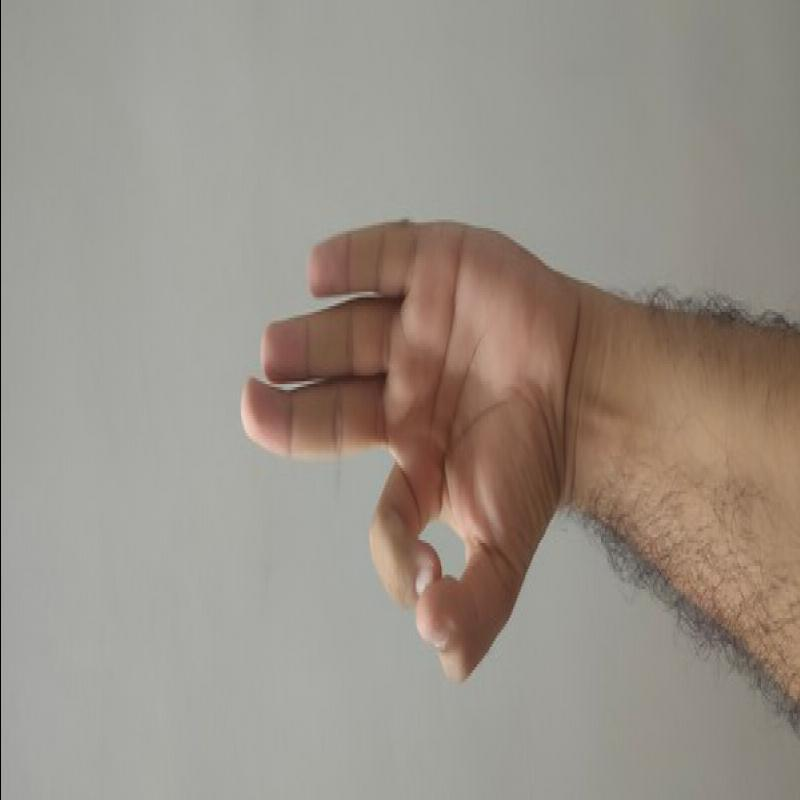Mudraakhyam: (229, 212, 597, 697)
